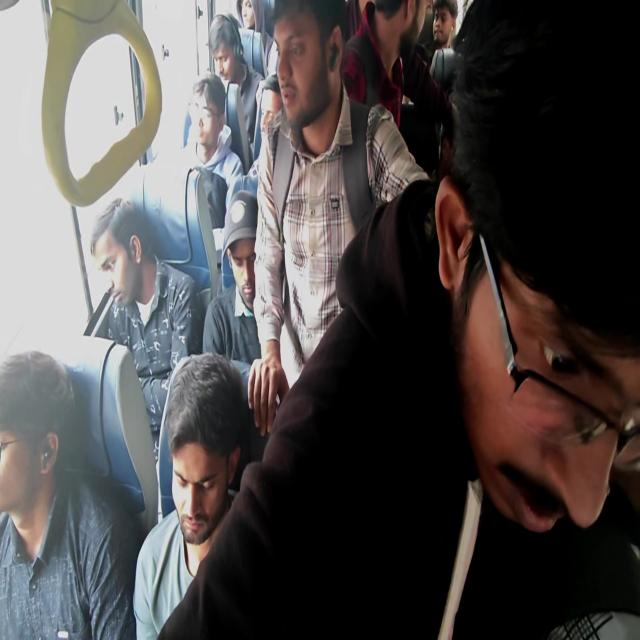person: (453, 214, 631, 536), (0, 347, 143, 640), (342, 1, 452, 152), (268, 2, 342, 132), (164, 352, 248, 464), (184, 75, 244, 231), (0, 350, 75, 446), (88, 197, 145, 310), (191, 73, 227, 118), (240, 28, 268, 82), (402, 0, 430, 51), (260, 0, 276, 35), (432, 0, 459, 20), (183, 105, 193, 148)
